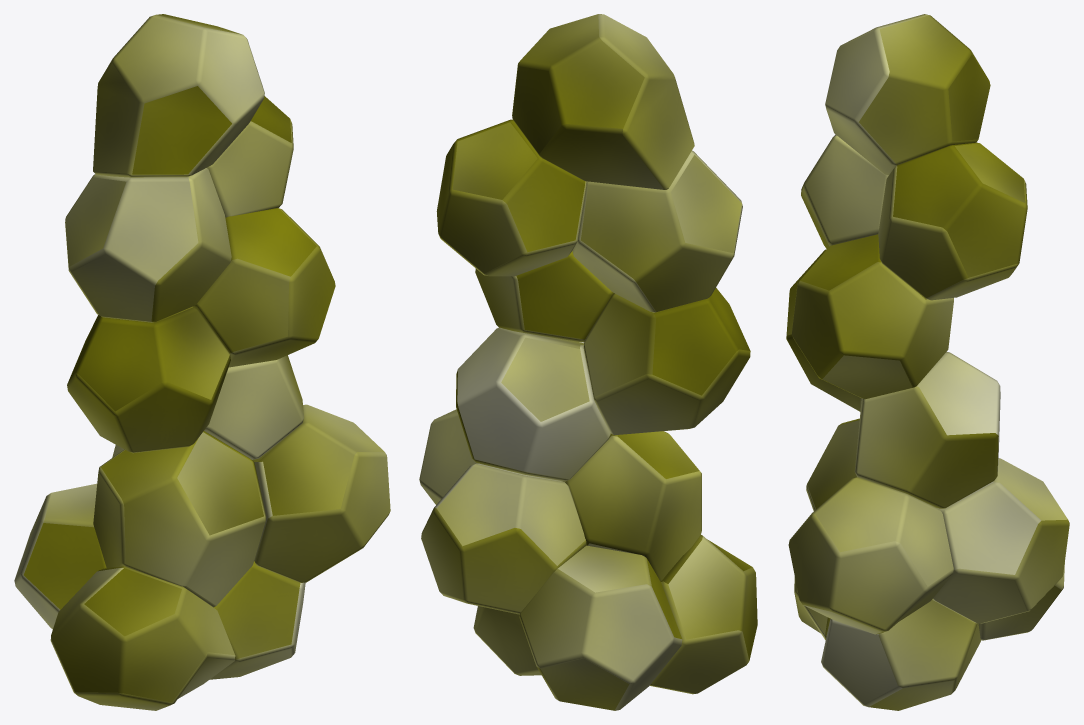
Rendered from SM_Statue_Abstract1.fbx.
3 views of the same model, side by side, from view 1: azimuth 30°, elevation 25°; view 2: azimuth 150°, elevation 25°; view 3: azimuth 270°, elevation 25° (orthographic).
Visible parts, largest first — view 1: SM_Statue_Abstract1_LOD0; view 2: SM_Statue_Abstract1_LOD0; view 3: SM_Statue_Abstract1_LOD0.
Part boxes in pixels (x1,y1,x2,y2): SM_Statue_Abstract1_LOD0: (14, 14, 390, 710); SM_Statue_Abstract1_LOD0: (419, 14, 757, 710); SM_Statue_Abstract1_LOD0: (786, 14, 1069, 710).
Size of the model in its own units: 145 by 115 by 297.
Materials: 1 (1 with a texture image).
